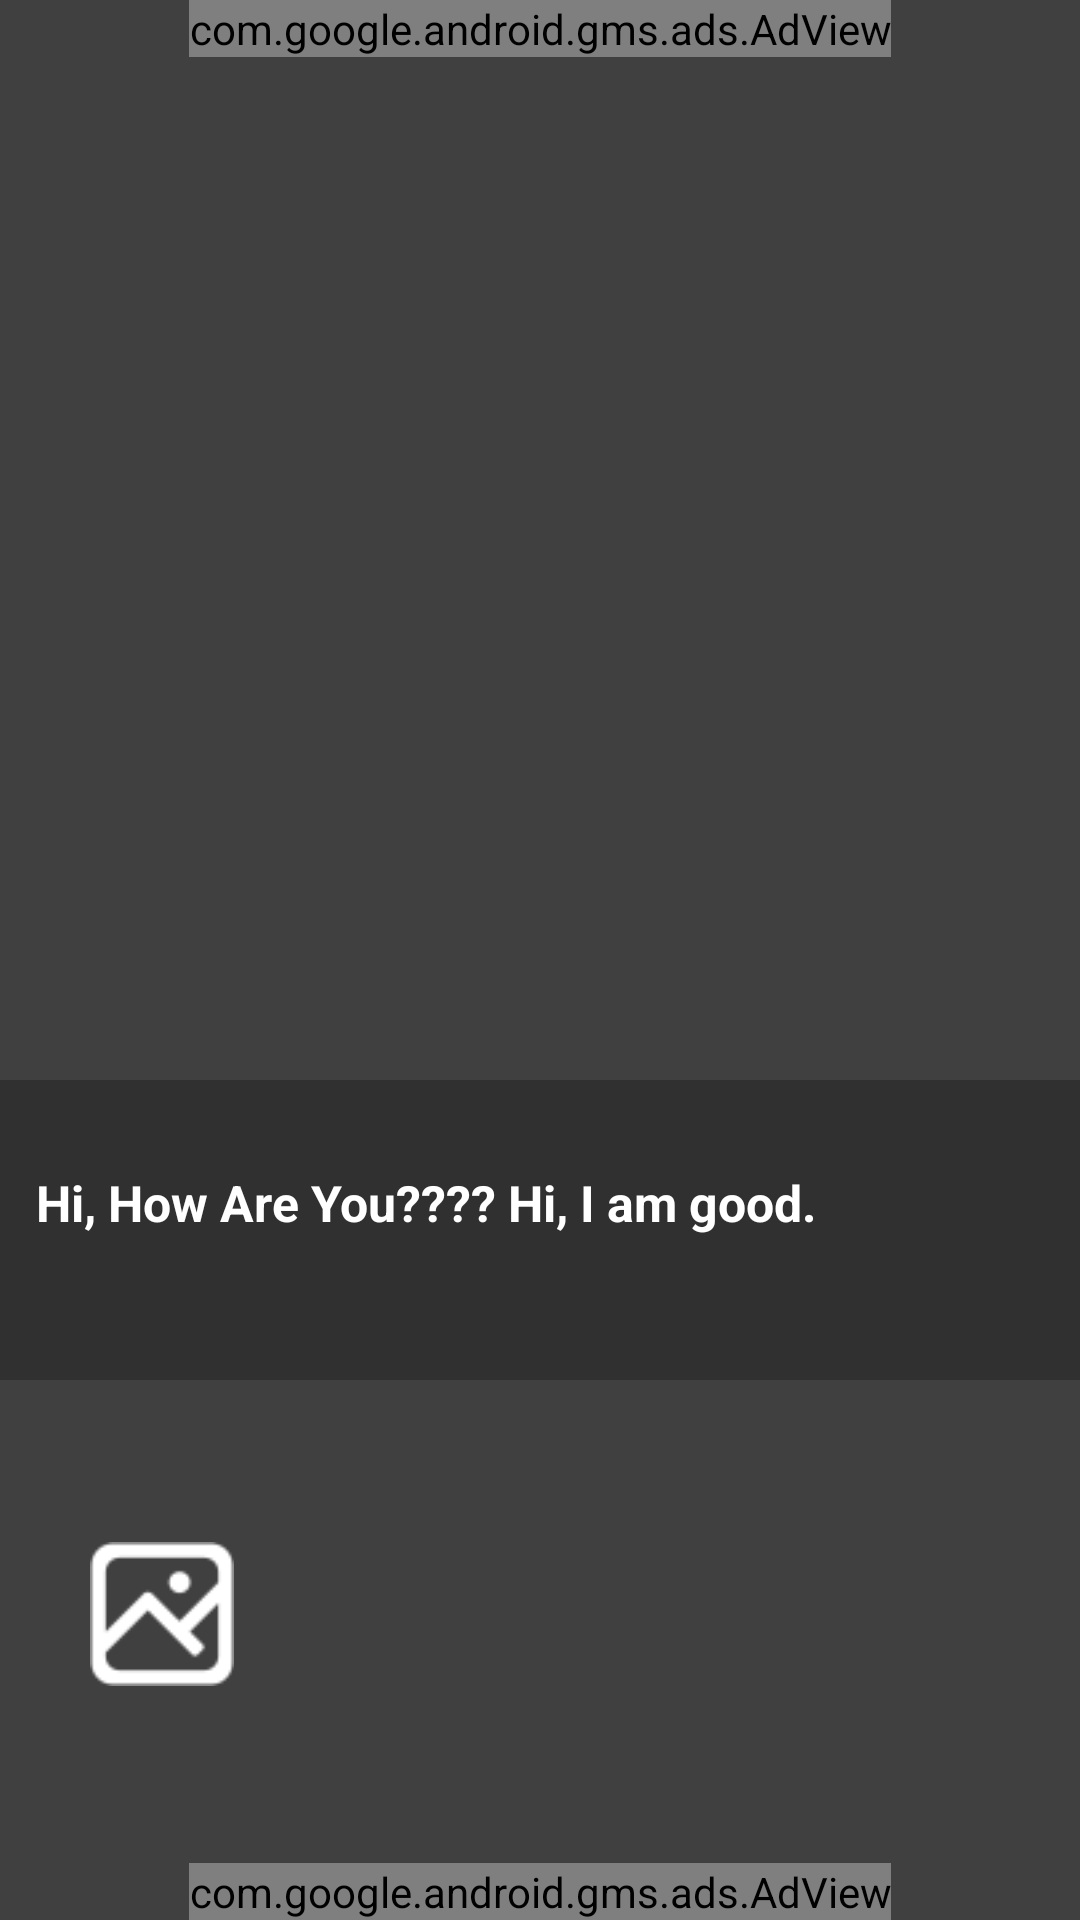

Where icons sit on this 1080x1920 app screen, as (x1, y1, x2, y2):
gallery clickable: (90, 1542, 234, 1686)
